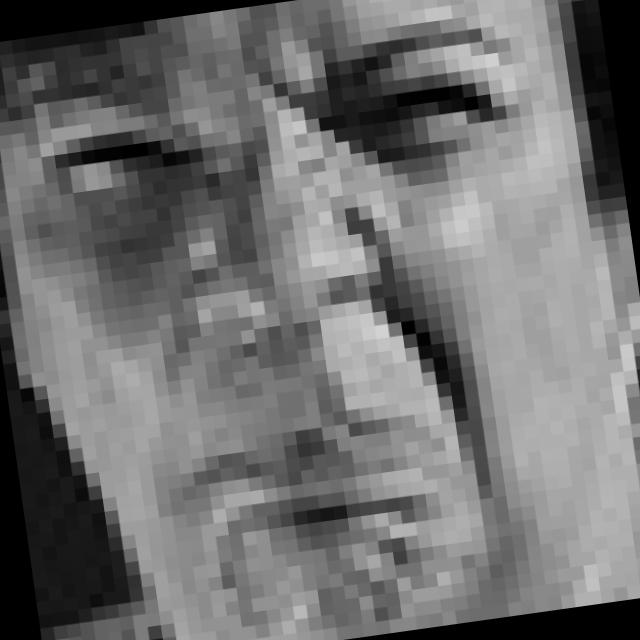disgust: (16, 13, 593, 640)
